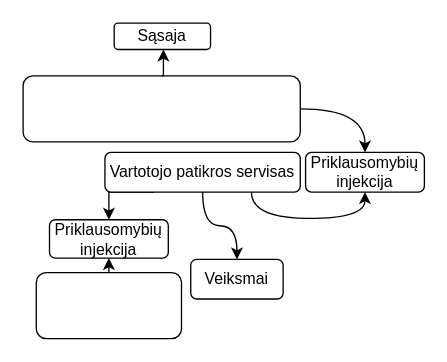
Image size: 447x362. Some labels were removed from this diagram. Each missing label, with the box of its shape:
Autorizacijos servisas: (22, 75, 300, 142)
duomenų bazės komunikacijos konstruktorius: (35, 271, 182, 339)
